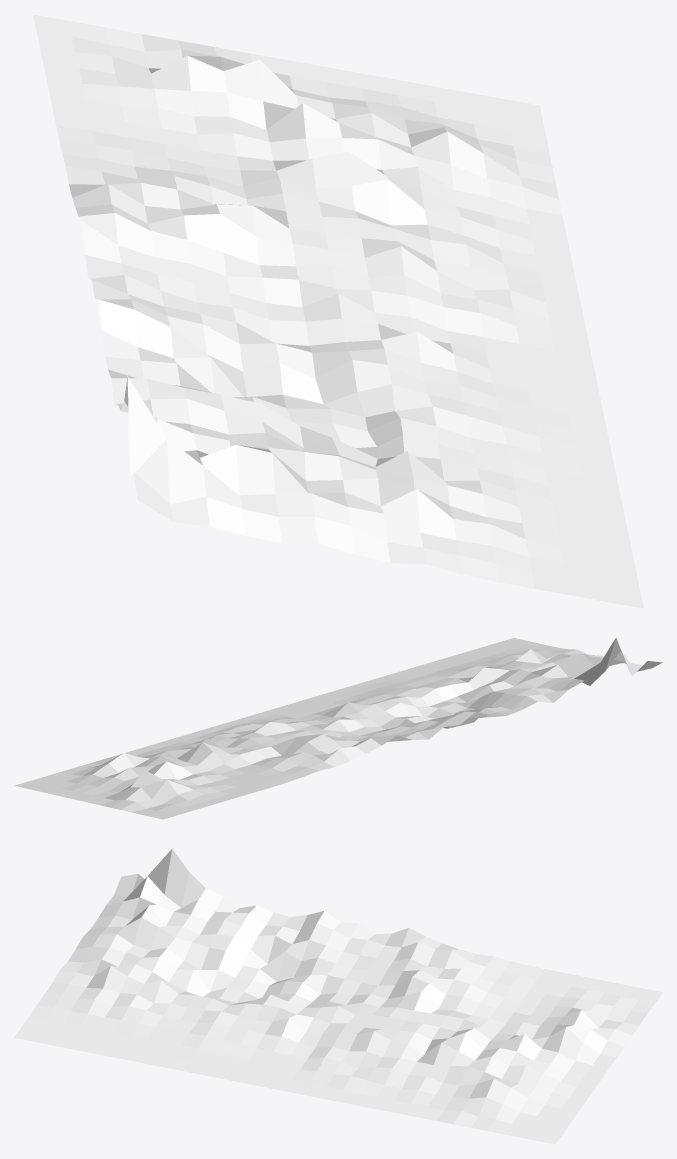
Rendered from american_falls_froth.gltf.
The picture shows the model from 3 angles, top to bottom: view 1: azimuth 30°, elevation 25°; view 2: azimuth 150°, elevation 25°; view 3: azimuth 270°, elevation 25°; orthographic projection. The views are drawn at different scales.
Parts seen in each view (by area): view 1: AFBottom; view 2: AFBottom; view 3: AFBottom.
Boxes of the visible parts, left/top/right/bottom form: AFBottom: left=33, top=14, right=643, bottom=608; AFBottom: left=14, top=637, right=662, bottom=819; AFBottom: left=14, top=848, right=662, bottom=1144.
Size of the model in its own units: 285 by 66.36 by 382.
